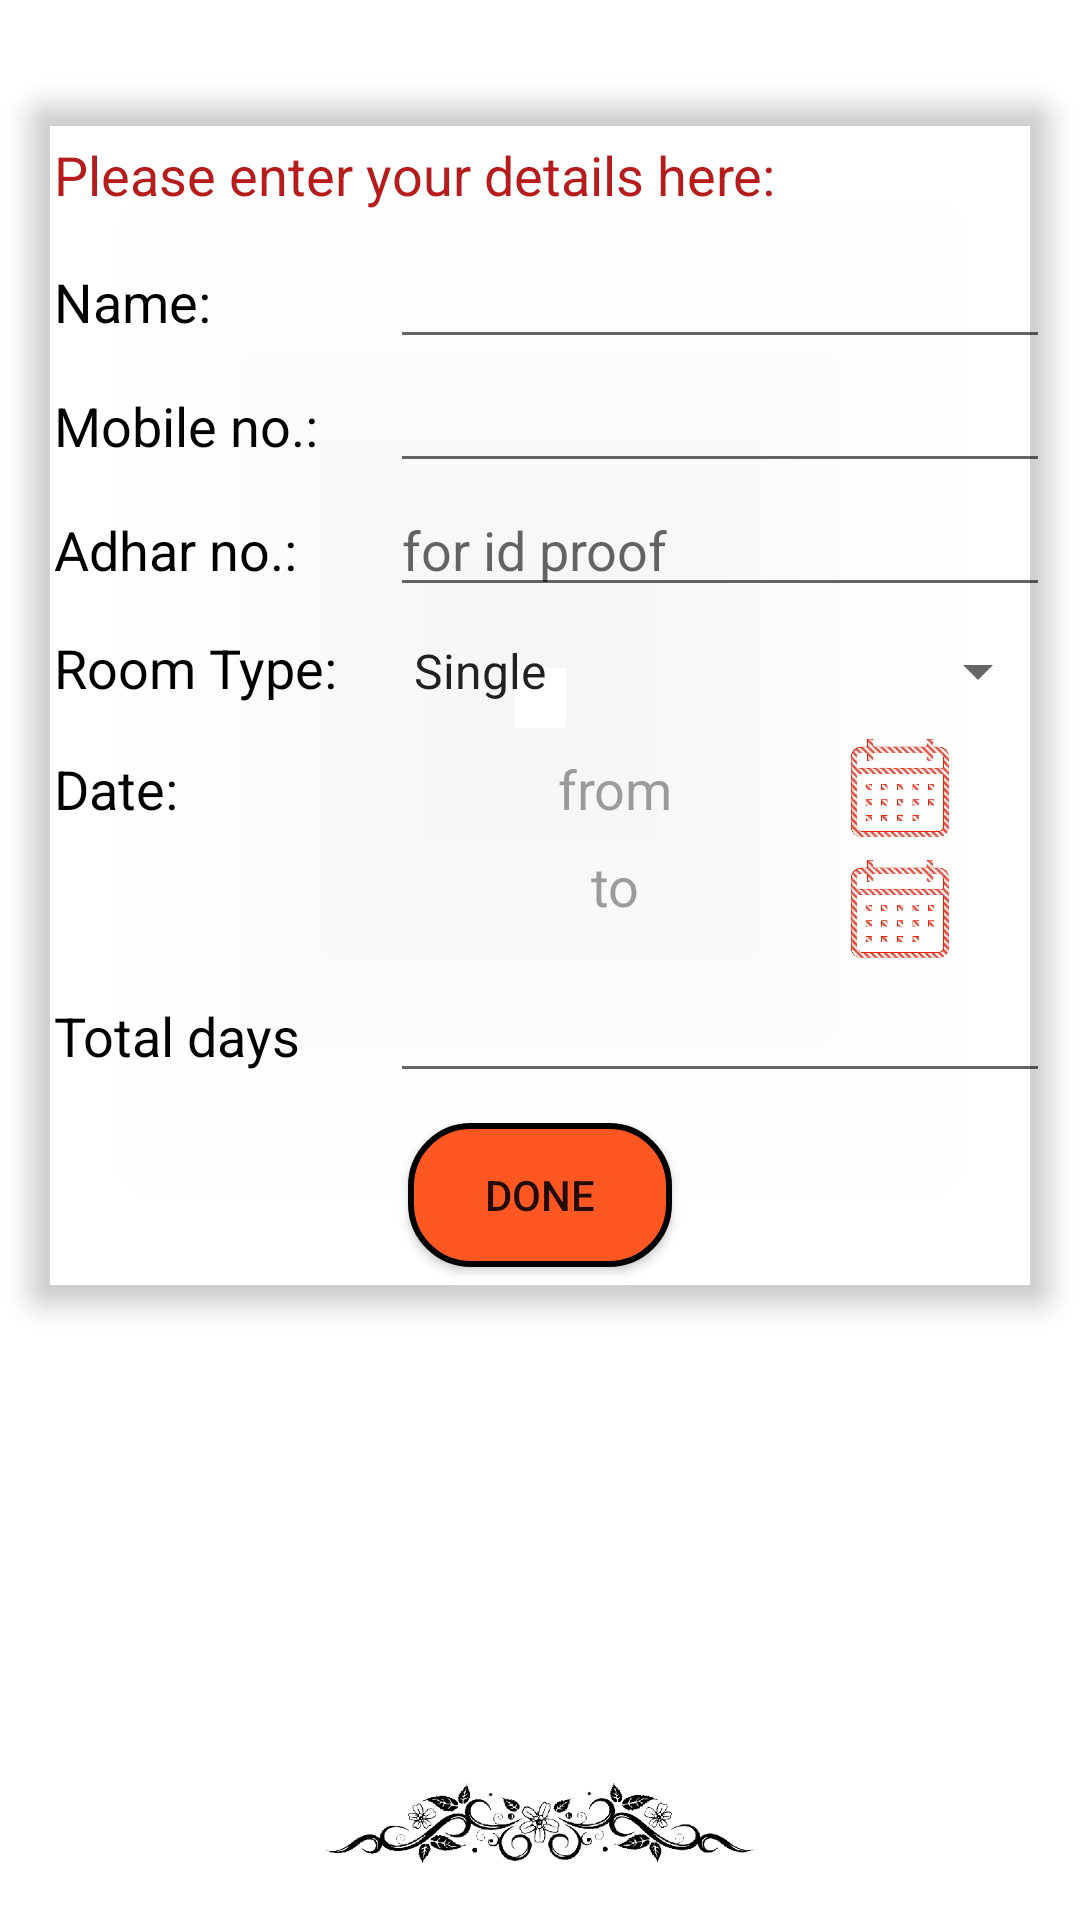

Icon bounding boxes for this 1080 × 1920 phone screenshot, format (x1, y1, x2, y2):
datepicker: (851, 739, 949, 837), (851, 860, 949, 958)
